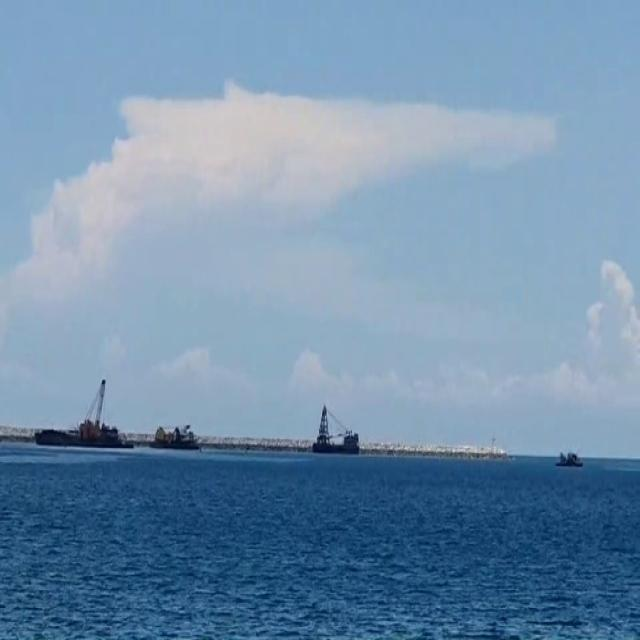civilianship: (35, 367, 129, 461), (308, 392, 366, 462), (151, 403, 208, 468), (549, 448, 595, 478)
